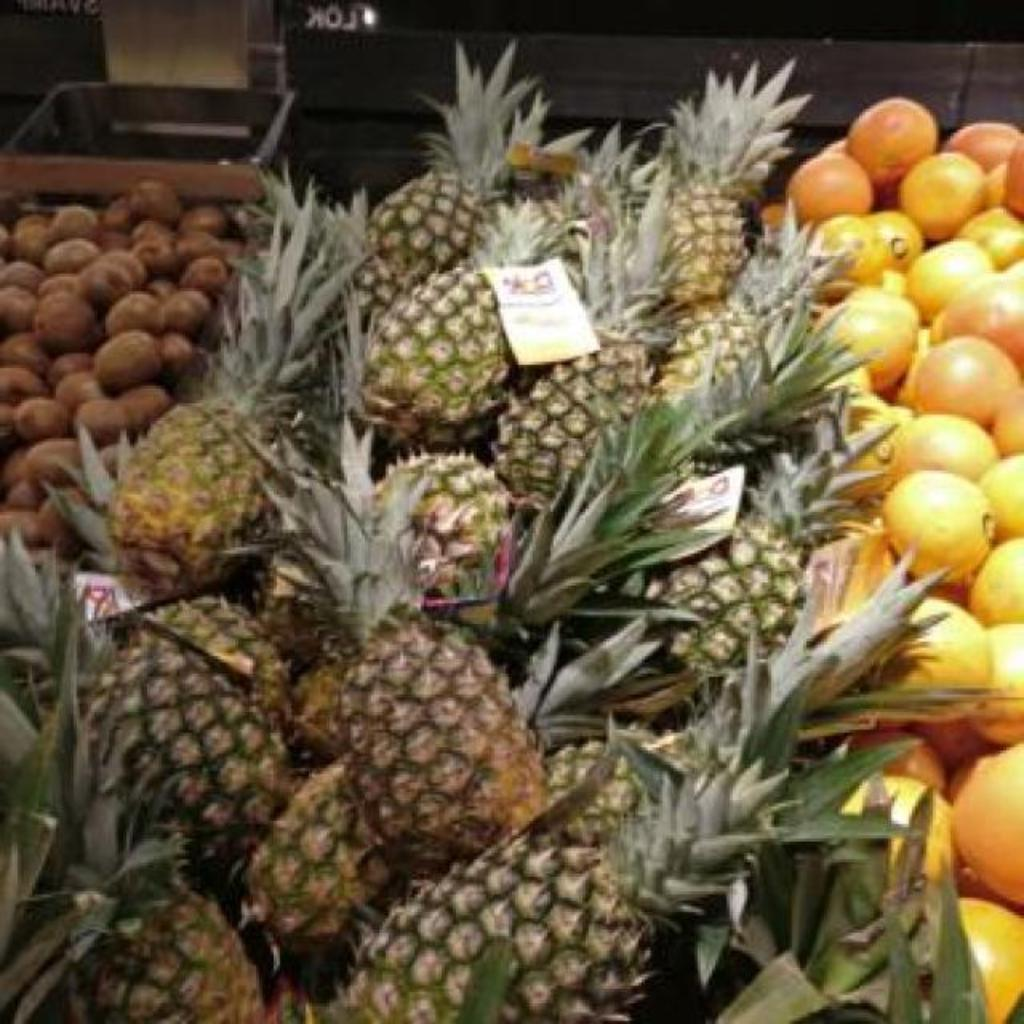pineapple: (344, 564, 926, 1024), (266, 416, 544, 869), (110, 178, 361, 597), (0, 538, 290, 899), (650, 406, 854, 673), (362, 42, 548, 315), (496, 236, 668, 509), (664, 60, 808, 307), (658, 224, 824, 397), (368, 266, 512, 450), (248, 760, 388, 947), (78, 892, 261, 1024), (396, 456, 510, 601), (474, 200, 570, 265)
